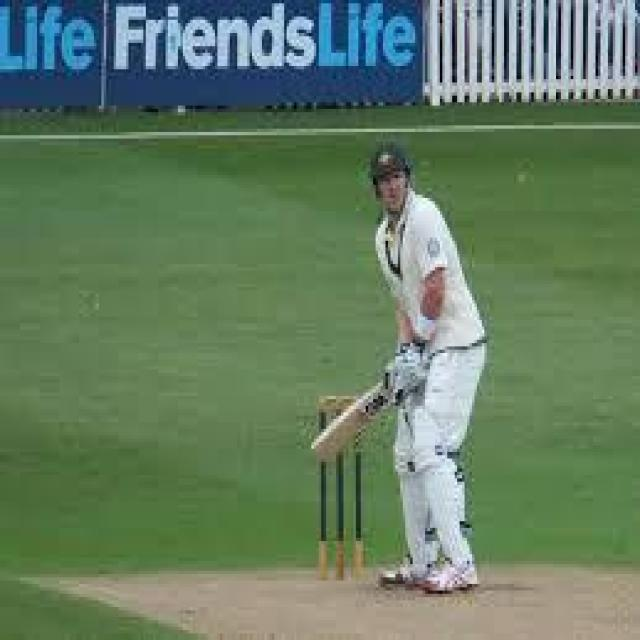bat: (310, 390, 390, 463)
toe: (311, 436, 335, 462)
